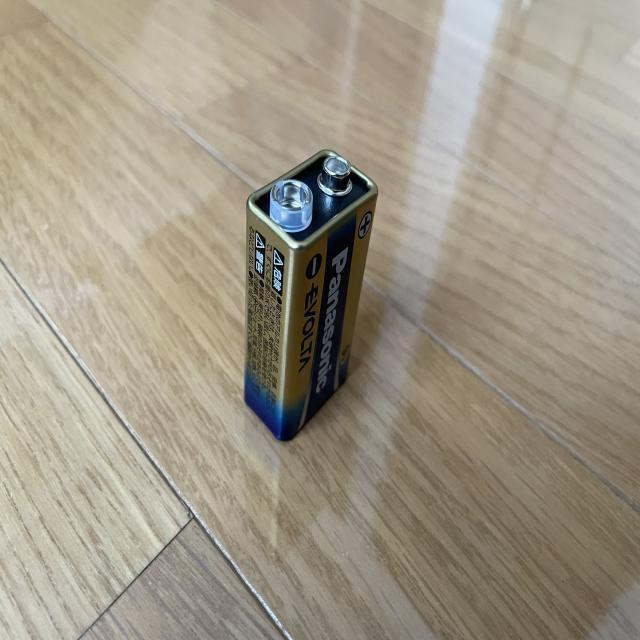9V: (242, 147, 379, 444)
